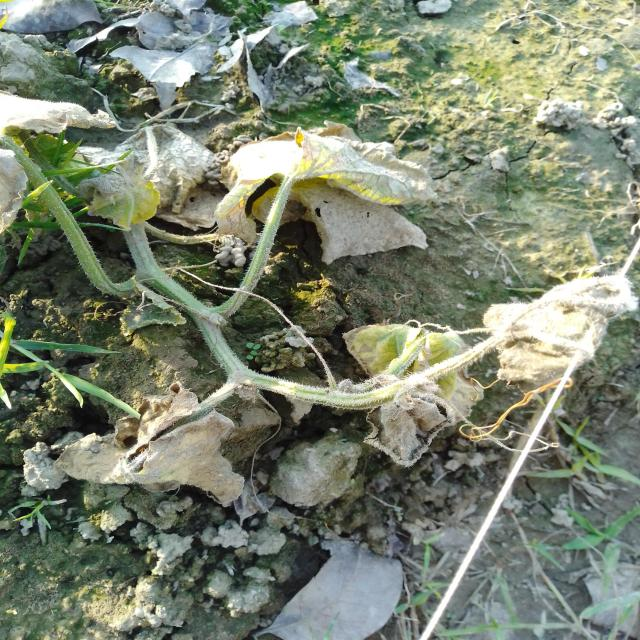cucumber_bacterial: (221, 103, 441, 302), (54, 338, 245, 536), (324, 315, 503, 457), (462, 278, 640, 406), (97, 87, 198, 239), (0, 58, 75, 256)
